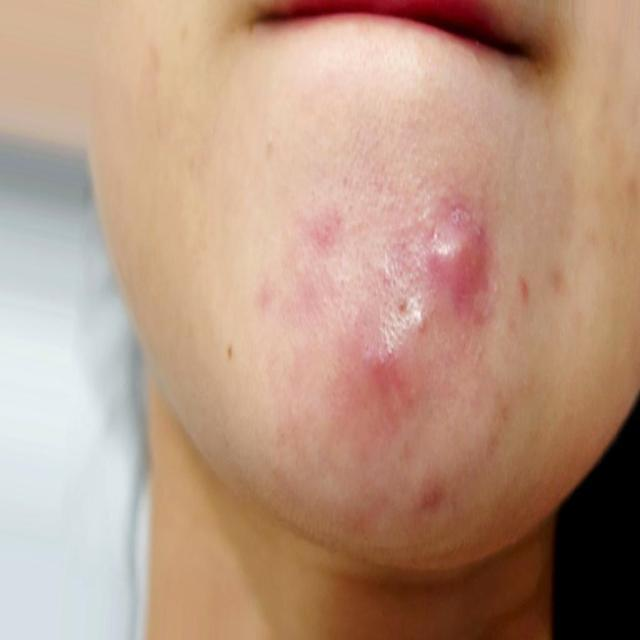acne: (333, 330, 424, 418), (433, 215, 485, 293)
